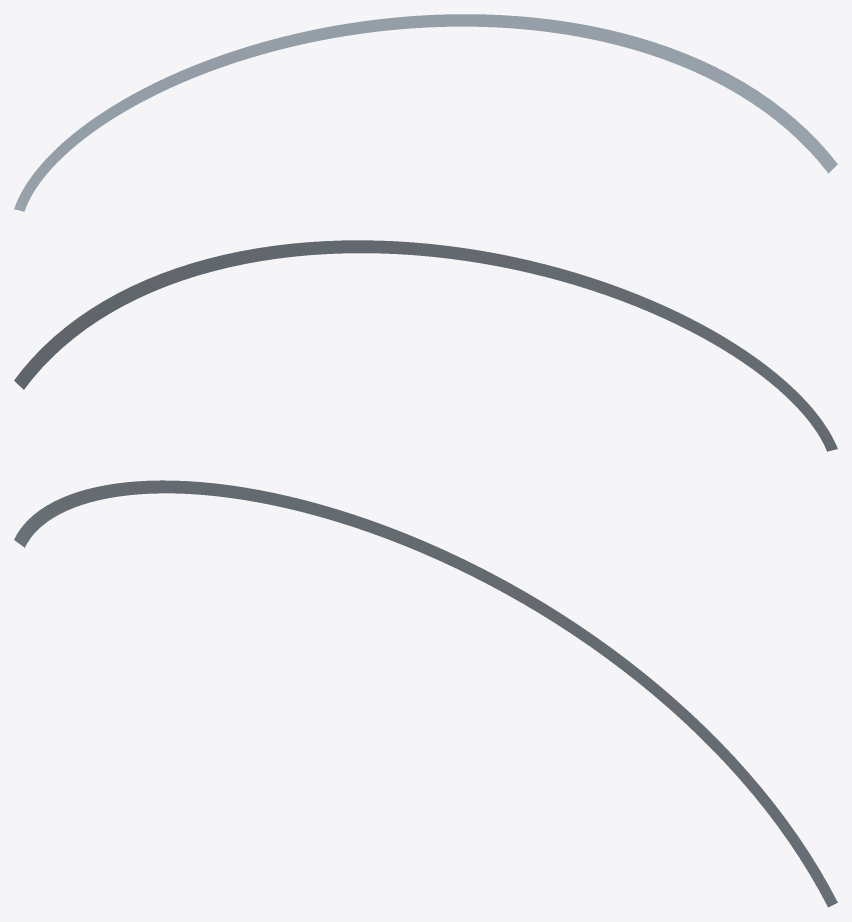
Rendered from Sucrose_LargeWindSpiritState_Overall_GatheringWind_89_0.fbx.
3 renders of one model, top to bottom at view 1: azimuth 30°, elevation 25°; view 2: azimuth 150°, elevation 25°; view 3: azimuth 330°, elevation 25°, orthographic. The views are drawn at different scales.
Visible parts, largest first — view 1: PART_GatheringWind_89_0; view 2: PART_GatheringWind_89_0; view 3: PART_GatheringWind_89_0.
Boxes of the visible parts, left/top/right/bottom form: PART_GatheringWind_89_0: left=14, top=14, right=837, bottom=211; PART_GatheringWind_89_0: left=14, top=240, right=837, bottom=451; PART_GatheringWind_89_0: left=14, top=480, right=837, bottom=907.
Bounding box in the file's own units: 489 × 148 × 16.
